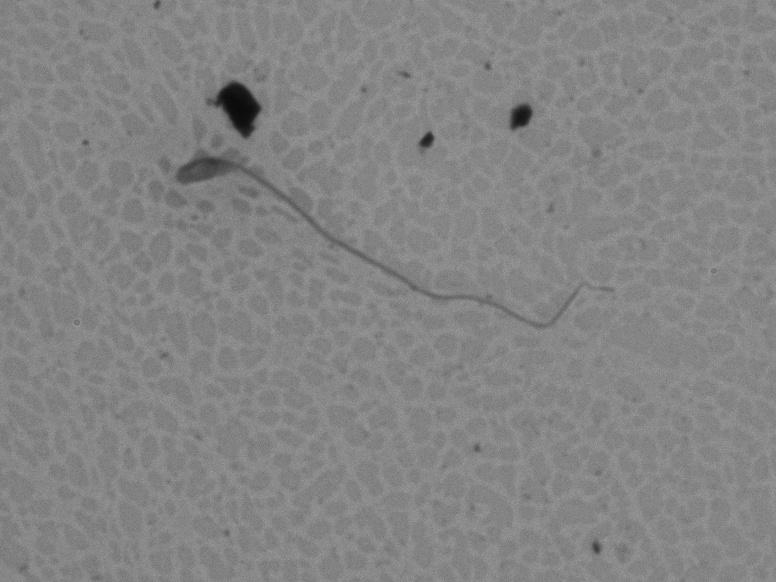Abnormal: (132, 143, 627, 363)
